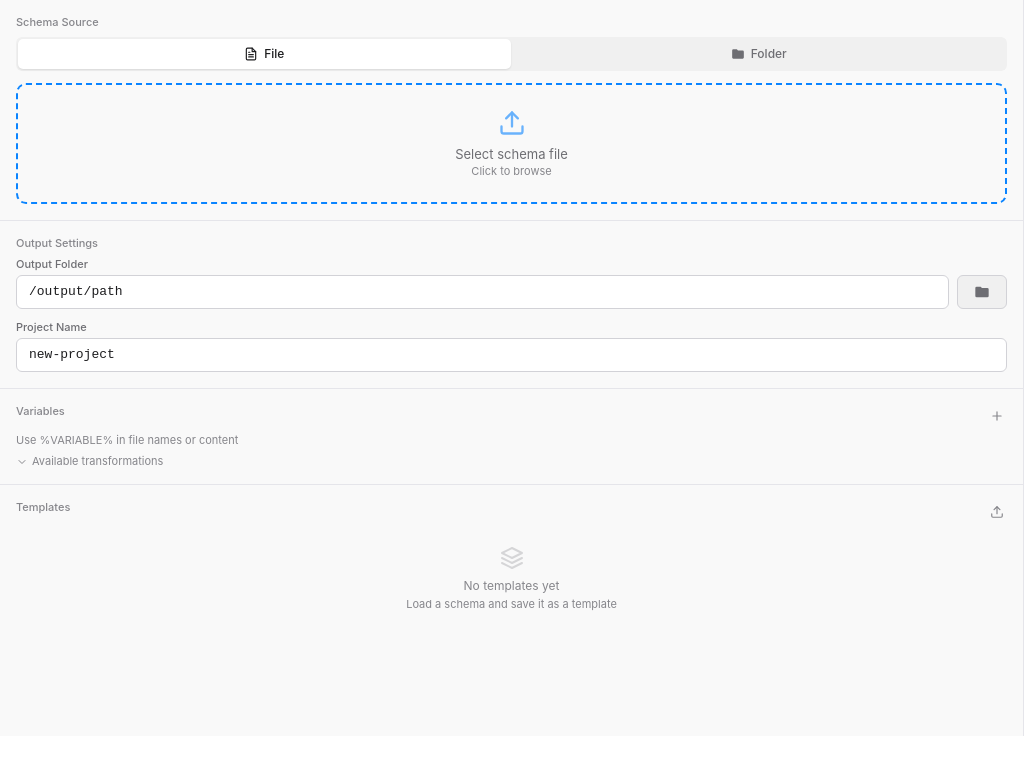
Test: LeftPanel › Variables Section › adding variables › shows add variable form when plus button is clicked
Click the button titled "Add variable".
click(997, 416)  # box [987,406,1007,426]
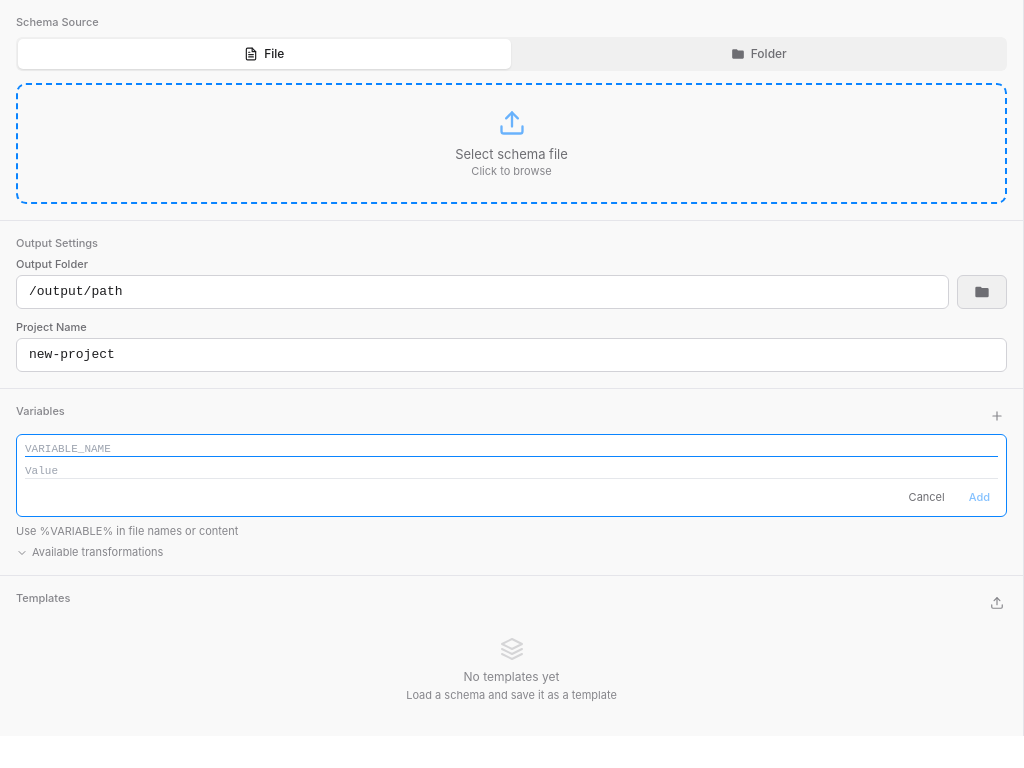
Expected: the field with placeholder "VARIABLE_NAME" is shown, [25,443,998,457]
Expected: the field with placeholder "Value" is shown, [25,465,998,479]
